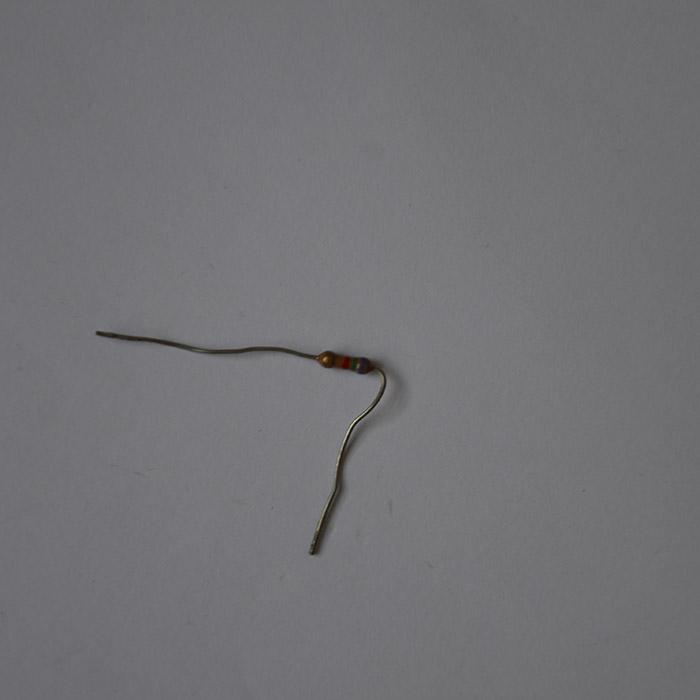resistor: (315, 350, 372, 374)
